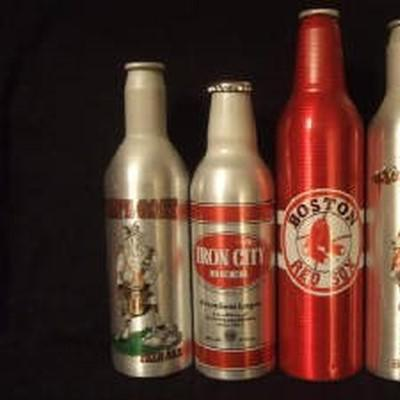beer: (107, 9, 400, 382)
